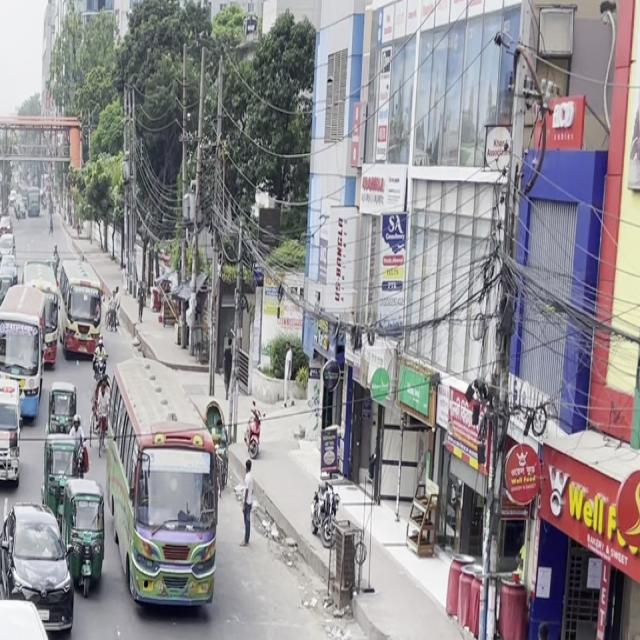bus: (127, 376, 223, 609), (0, 282, 55, 385), (55, 260, 109, 363)
car: (0, 508, 80, 635), (0, 603, 72, 640), (0, 400, 24, 494), (312, 630, 470, 640)
rickshaw: (61, 469, 111, 599)
